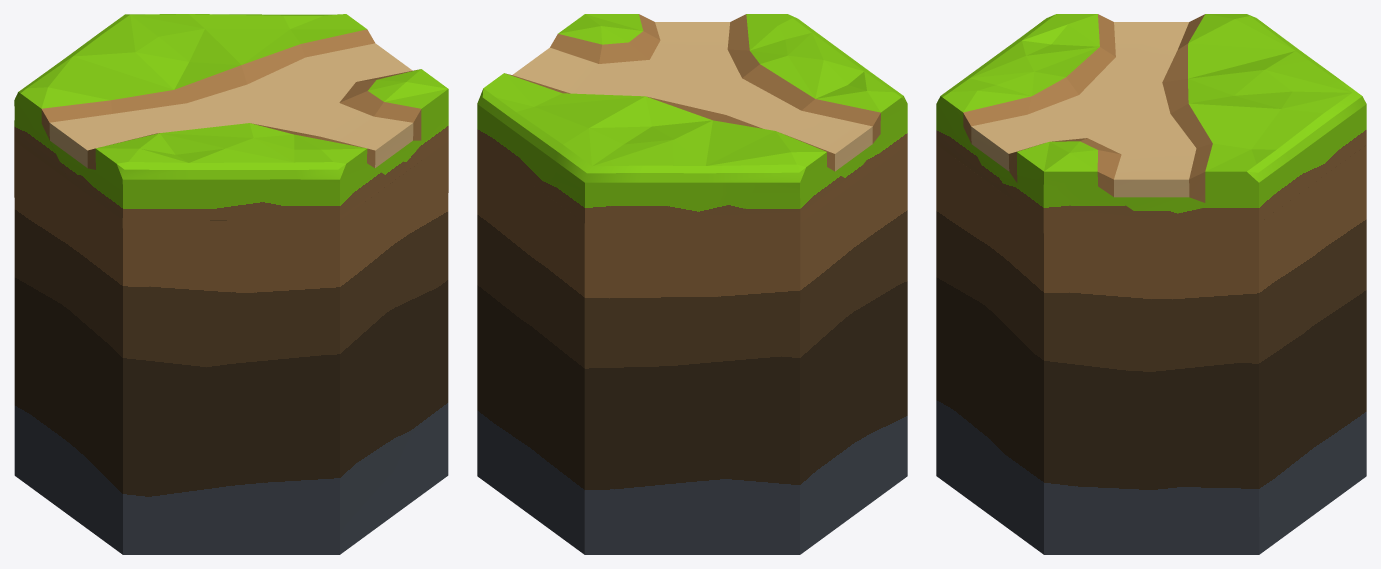
The model's file is HexTilePath_3Way_2.glb.
3 views of the same model, side by side, from view 1: azimuth 30°, elevation 25°; view 2: azimuth 150°, elevation 25°; view 3: azimuth 270°, elevation 25° (orthographic).
Visible parts, largest first — view 1: HexTilePath_3Way_2; view 2: HexTilePath_3Way_2; view 3: HexTilePath_3Way_2.
Boxes of the visible parts, bbox=[...] form: HexTilePath_3Way_2: bbox=[14, 14, 448, 554]; HexTilePath_3Way_2: bbox=[477, 14, 907, 554]; HexTilePath_3Way_2: bbox=[936, 14, 1366, 554].
Bounding box in the file's own units: 1.73 × 1.99 × 2.
Materials: 1 (1 with a texture image).
